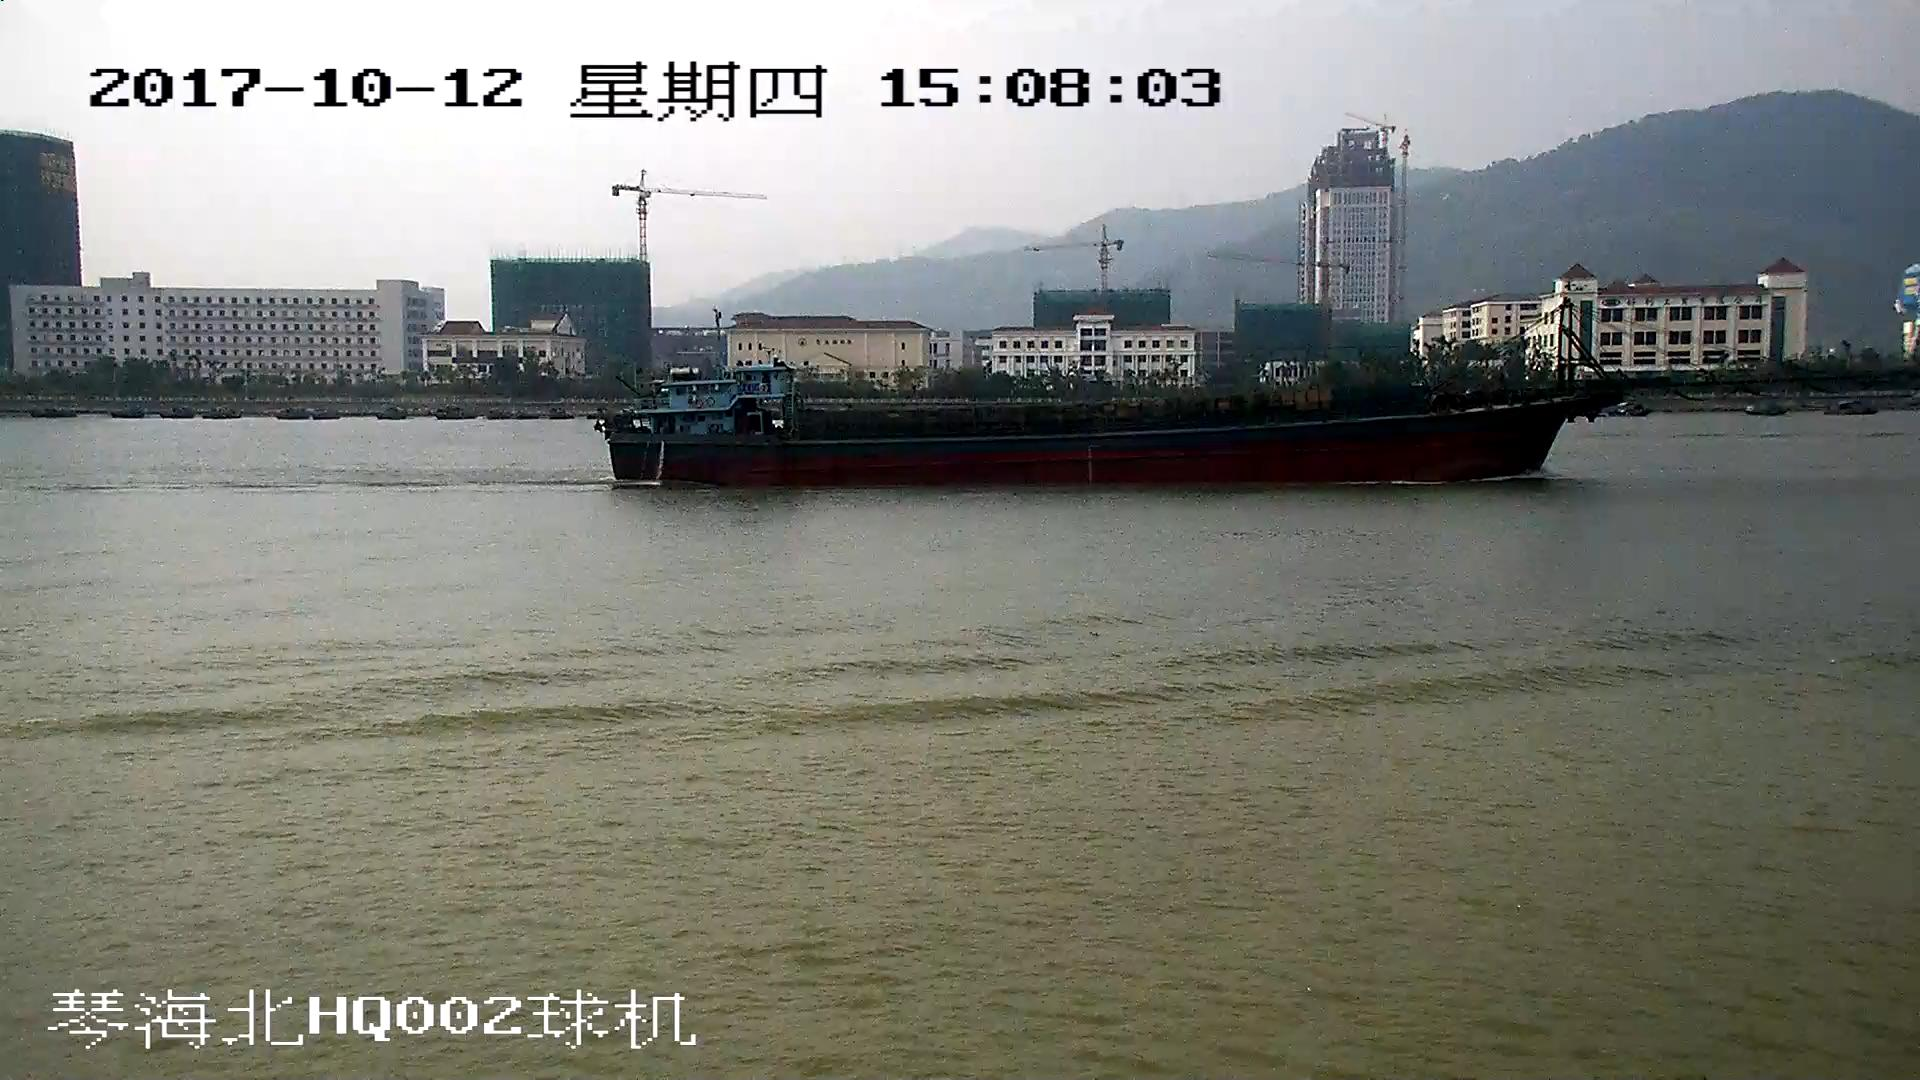bulk cargo carrier: (600, 299, 1752, 488)
